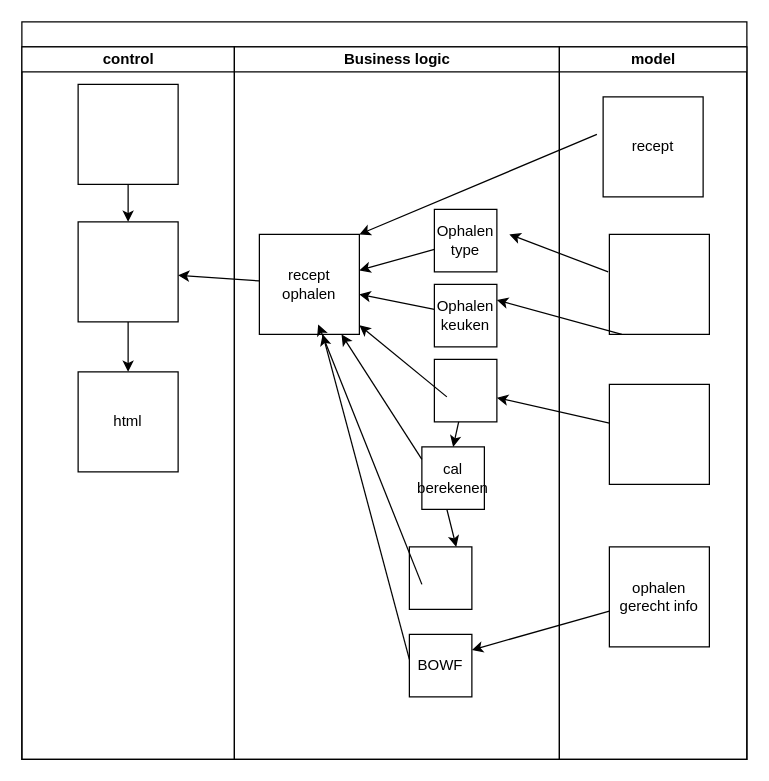
The diagram is 769 pixels wide and 781 high, and some of its shapes have lost their labels. Here are the shapes that lost their labels. From the top down, the centre of each, then its label:
the point at 127,133: start
the point at 127,271: klikt recept
the point at 658,283: ophalen keuken/type
the point at 465,390: Ophalen ingredienten
the point at 658,433: ophalen inalen ingredient
the point at 440,577: prijs
